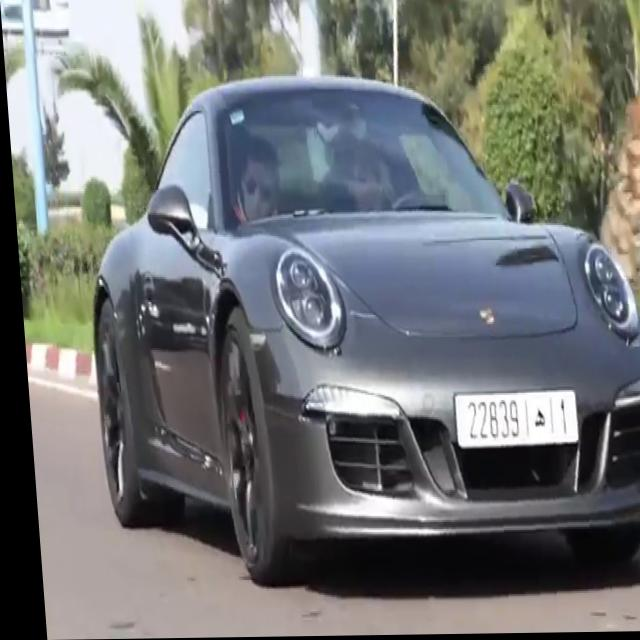License-Plate: (449, 391, 572, 451)
